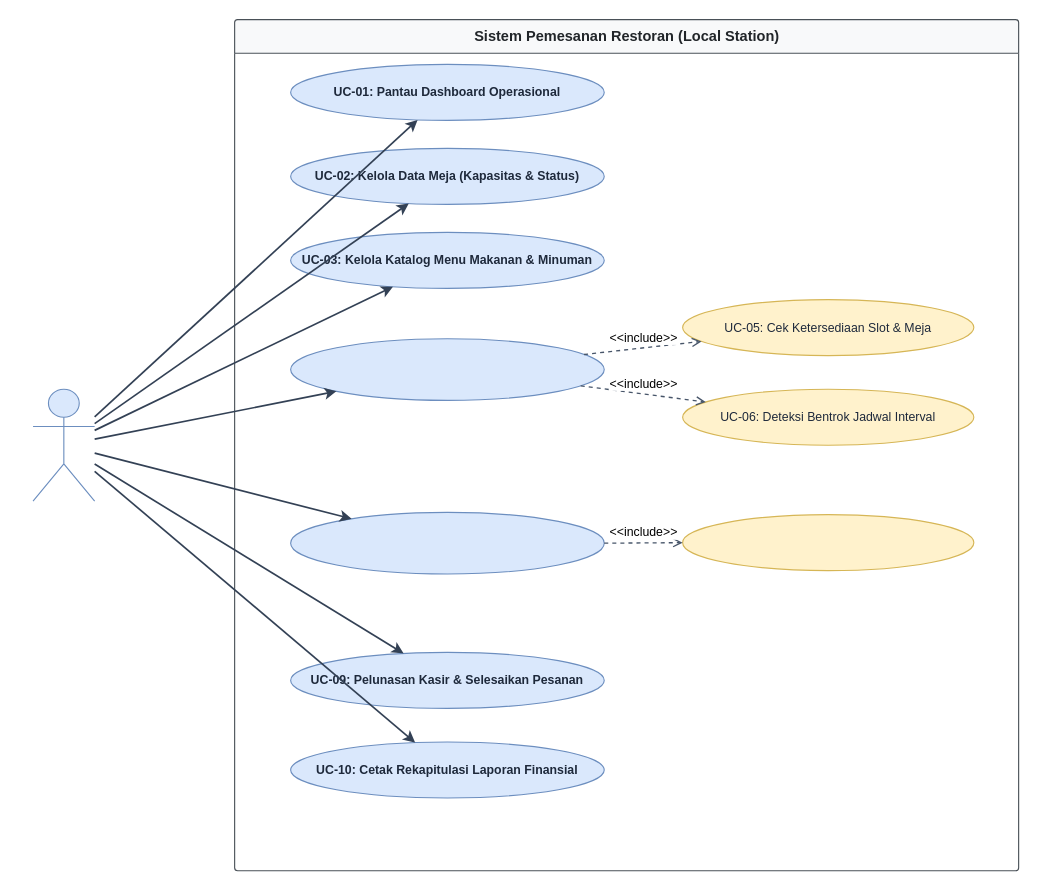
This 1038x890 diagram has some shape labels left out. Here are the shapes that lost their labels. From the top down, the centre of each, then its label:
the point at 447,369: UC-04: Buat Reservasi Alur 6-Langkah
the point at 63,444: Administrator
the point at 447,542: UC-07: Buat Pesanan Menu Kasir
the point at 828,542: UC-08: Snapshot Harga & Hitung Total
